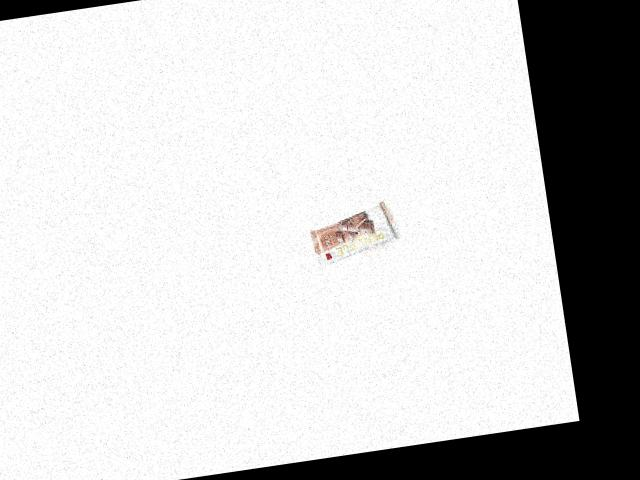chocolate: (306, 193, 396, 272)
